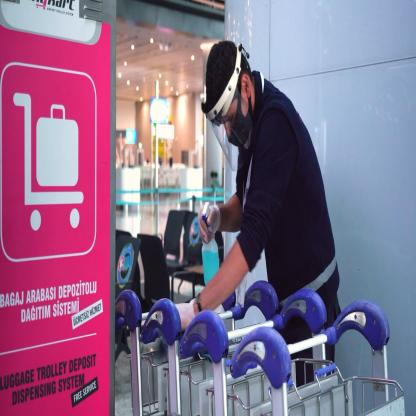airport-trolley: (181, 281, 325, 416), (226, 303, 398, 416), (183, 281, 280, 416), (145, 294, 237, 416), (116, 282, 163, 416)
